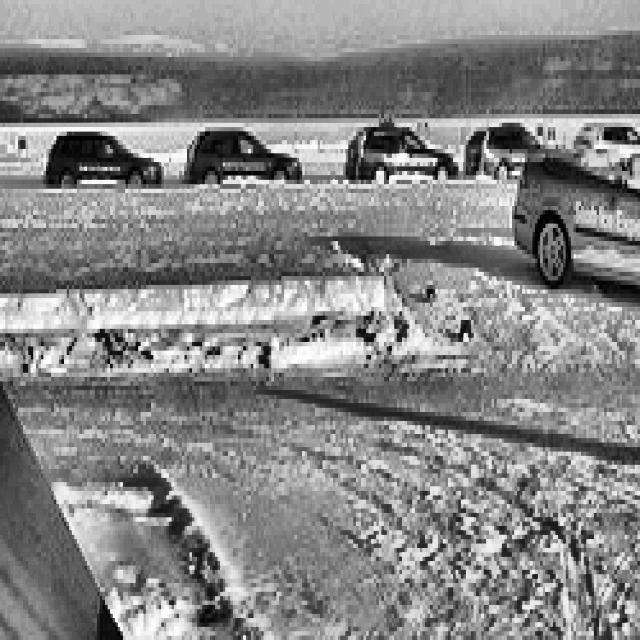light_vehicle: (509, 127, 640, 320), (44, 127, 162, 193), (343, 122, 461, 188), (179, 123, 302, 184), (461, 122, 548, 180)
